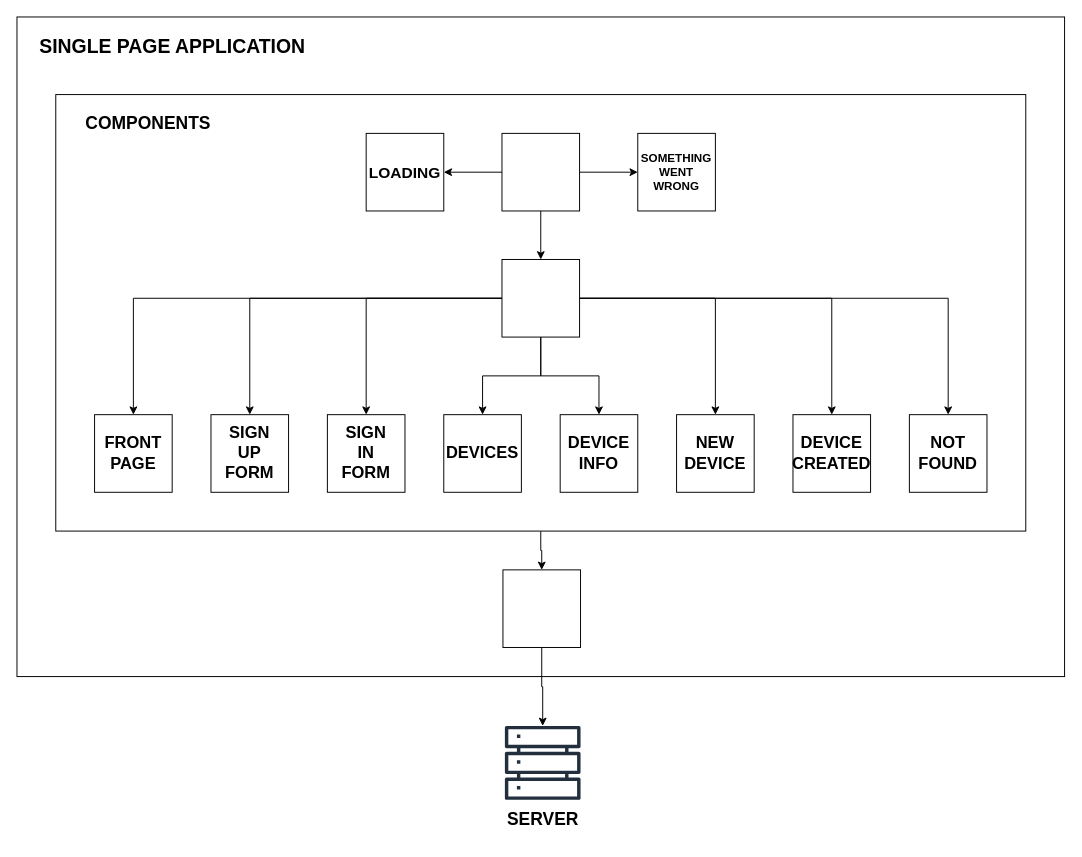
Some shapes in this 1082 by 857 pixel diagram are drawn without their labels. Each missing label, with the centre of its shape:
"APP" belongs at (540,171).
"ROUTER" belongs at (540,298).
"SERVICES" belongs at (541,608).
